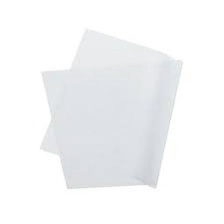tissue: (32, 23, 188, 198)
